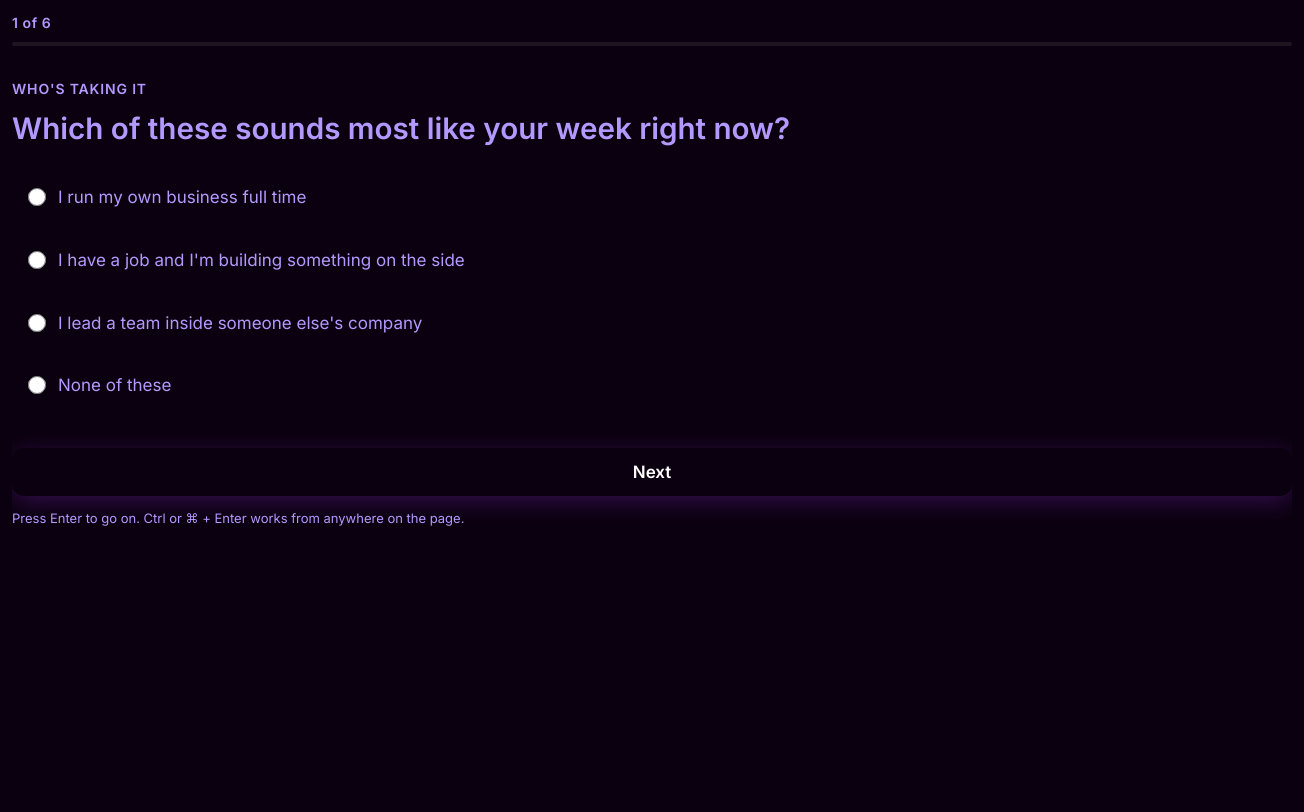
Test: ReadFlow › asks for an answer before moving on, without saving
The width and height of the screenshot is (1304, 812).
Expected: the heading "Which of these sounds most like your week right now?" is shown, [12,110,790,146]
Click the button "Next". click: (652, 472)
box: [12,448,1292,496]
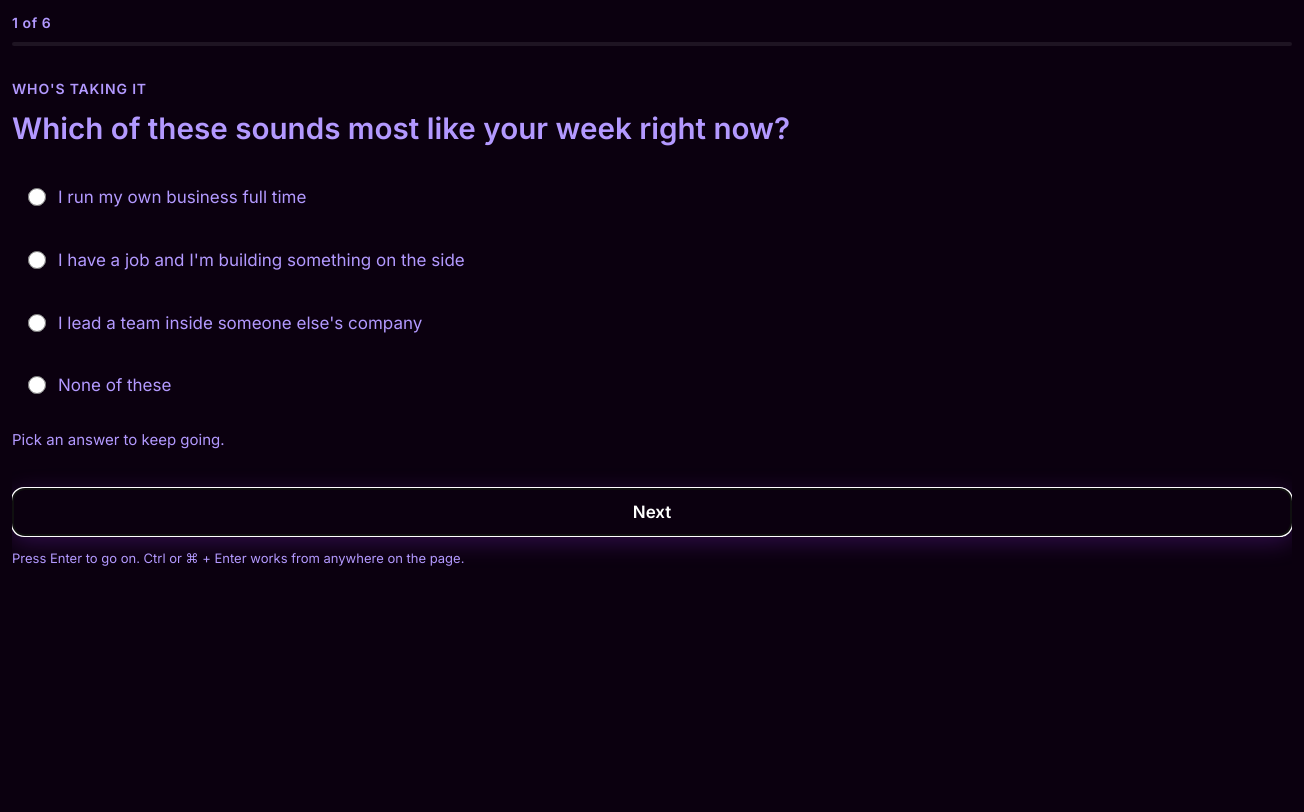
Expected: the message reads "Pick an answer to keep going.", [12,430,224,449]
